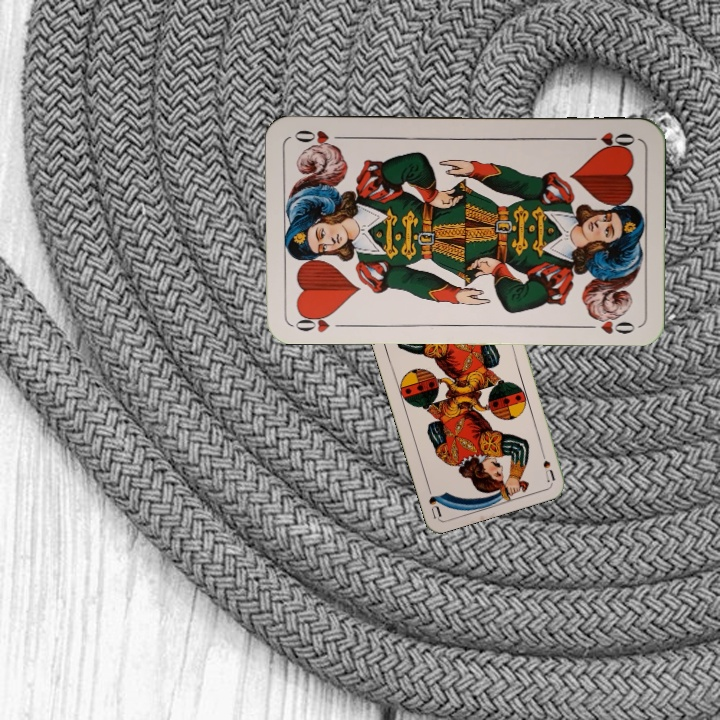HO: (289, 309, 348, 335), (580, 128, 638, 151)
SU: (536, 443, 557, 484)
